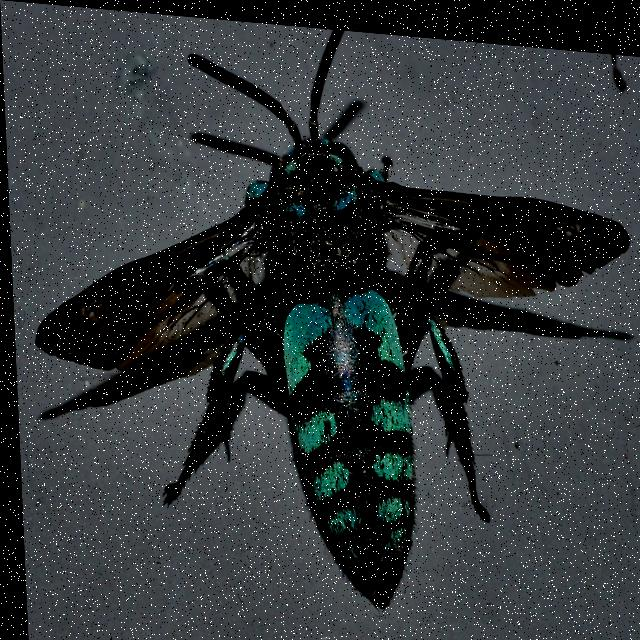Thyreus: (19, 1, 640, 640)
